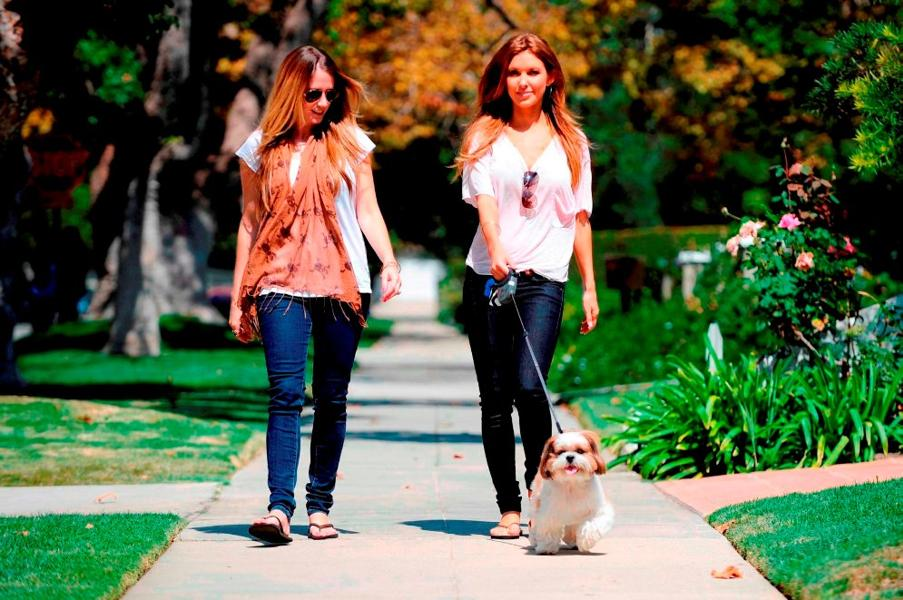person: (461, 36, 603, 540)
